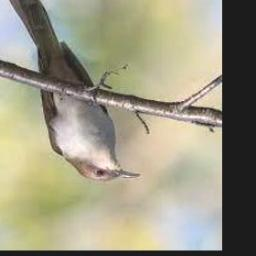Cuckoo: (8, 0, 140, 181)
